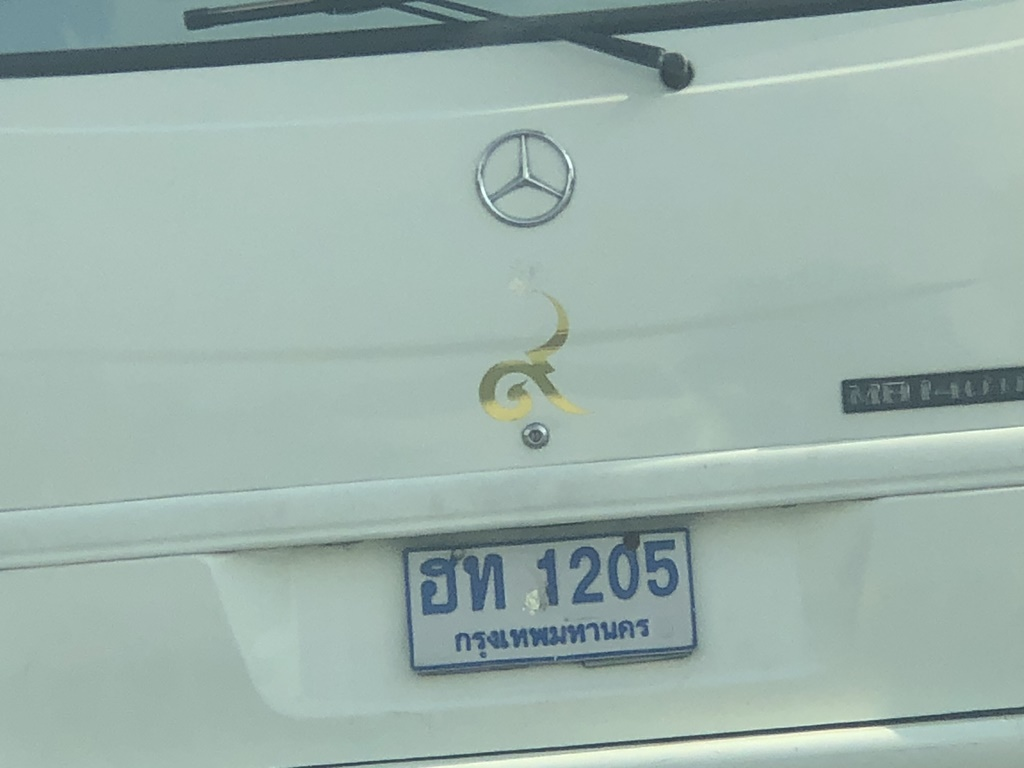zero: (599, 532, 646, 603)
